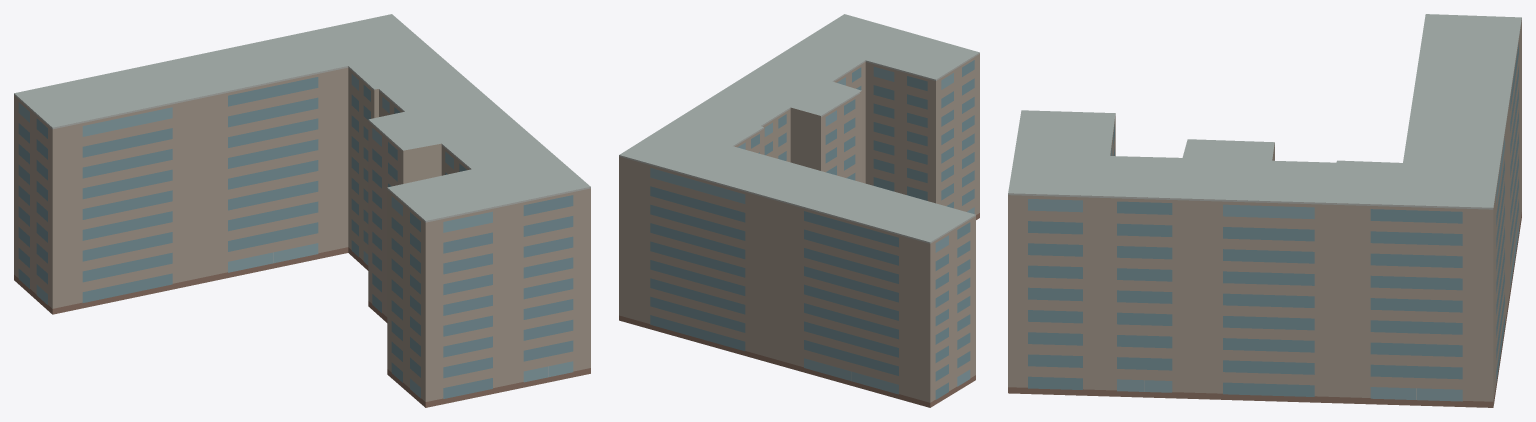
The model's file is survey-upis-33025231.glb.
3 renders of one model, left to right at view 1: azimuth 30°, elevation 25°; view 2: azimuth 150°, elevation 25°; view 3: azimuth 270°, elevation 25°, orthographic. The views are drawn at different scales.
Parts seen in each view (by area): view 1: survey-upis-33025231.tmp; view 2: survey-upis-33025231.tmp; view 3: survey-upis-33025231.tmp.
Boxes of the visible parts, x1,y1,x2,y2 form: survey-upis-33025231.tmp: [14, 14, 590, 407]; survey-upis-33025231.tmp: [619, 14, 979, 407]; survey-upis-33025231.tmp: [1008, 14, 1521, 407].
Size of the model in its own units: 57.03 by 27.45 by 63.88.
